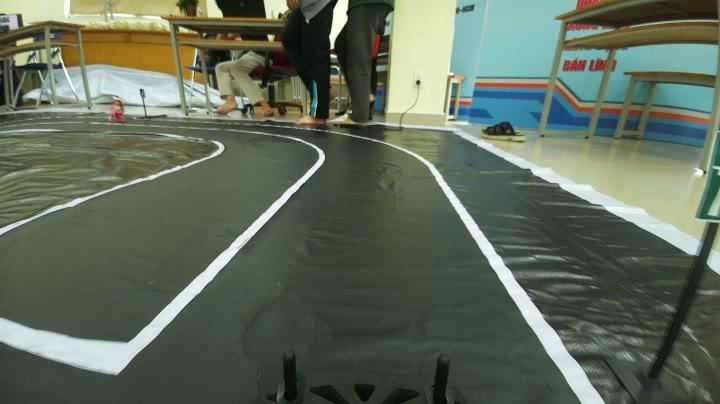highway_entry: (698, 129, 720, 230)
